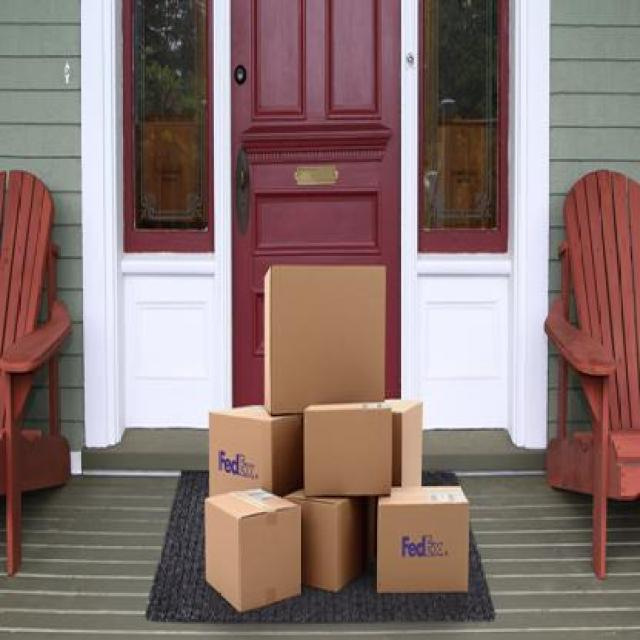box: (259, 249, 406, 417), (198, 477, 304, 625), (364, 487, 478, 623), (189, 382, 291, 518), (282, 472, 373, 620), (302, 388, 398, 510), (370, 379, 436, 486)
